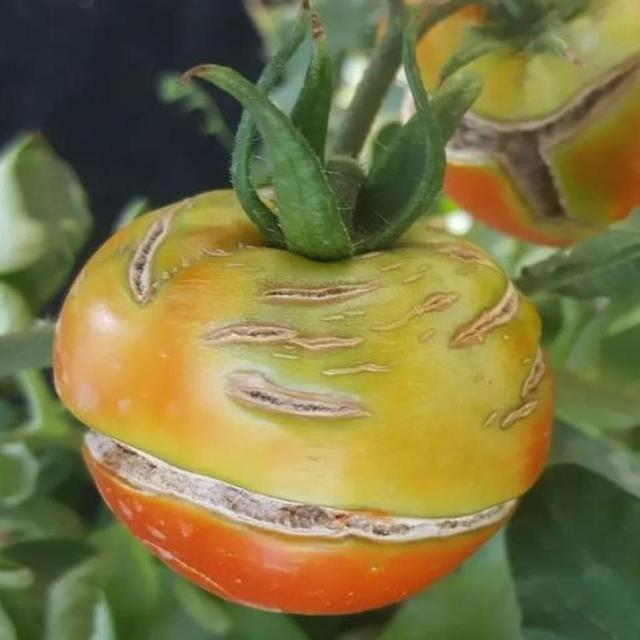Cracking Fruit: (37, 24, 316, 310)
